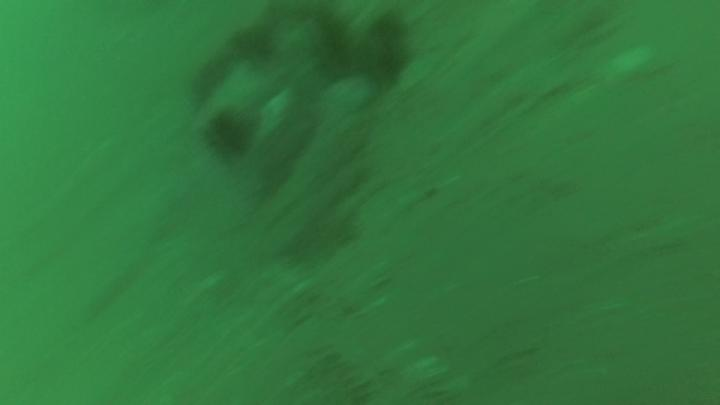echinus: (369, 16, 409, 82), (318, 16, 360, 77), (203, 106, 250, 160), (236, 25, 274, 66)
